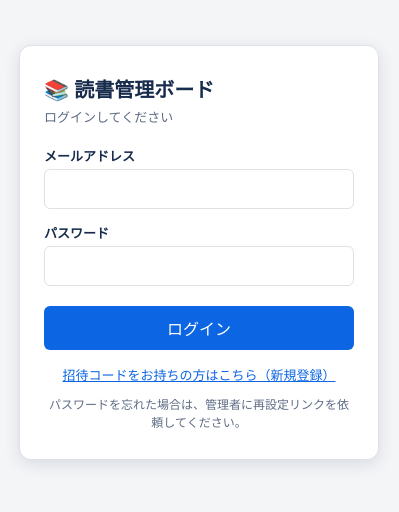
Test: LoginView › 失敗時は API のエラーメッセージを表示する
Type "owner@example.com" into the field labelled "メールアドレス".
click(199, 188); type("owner@example.com")  # box [44, 168, 354, 208]
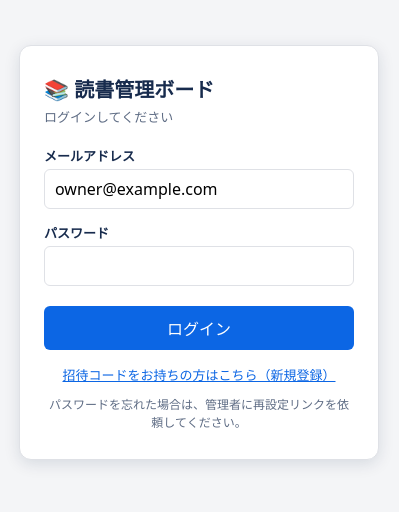
Type "wrong" into the password field labelled "パスワード".
click(199, 266); type("wrong")  # box [44, 246, 354, 286]
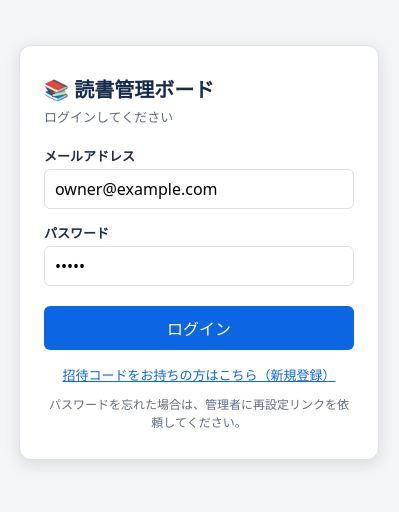
Submit the form
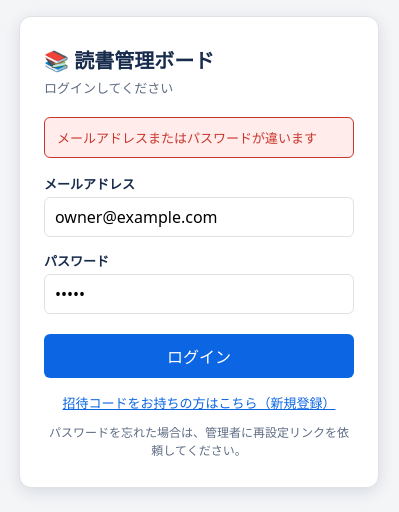
Expected: the message "メールアドレスまたはパスワードが違います" is shown, [44, 117, 354, 158]
